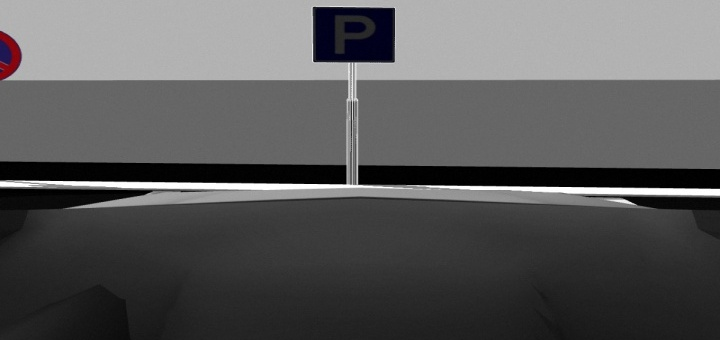park: (303, 4, 407, 64)
